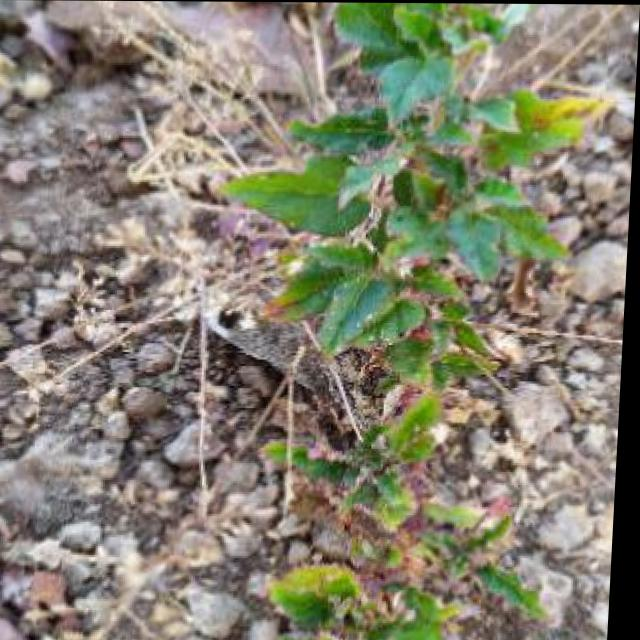weed: (205, 1, 630, 640)
